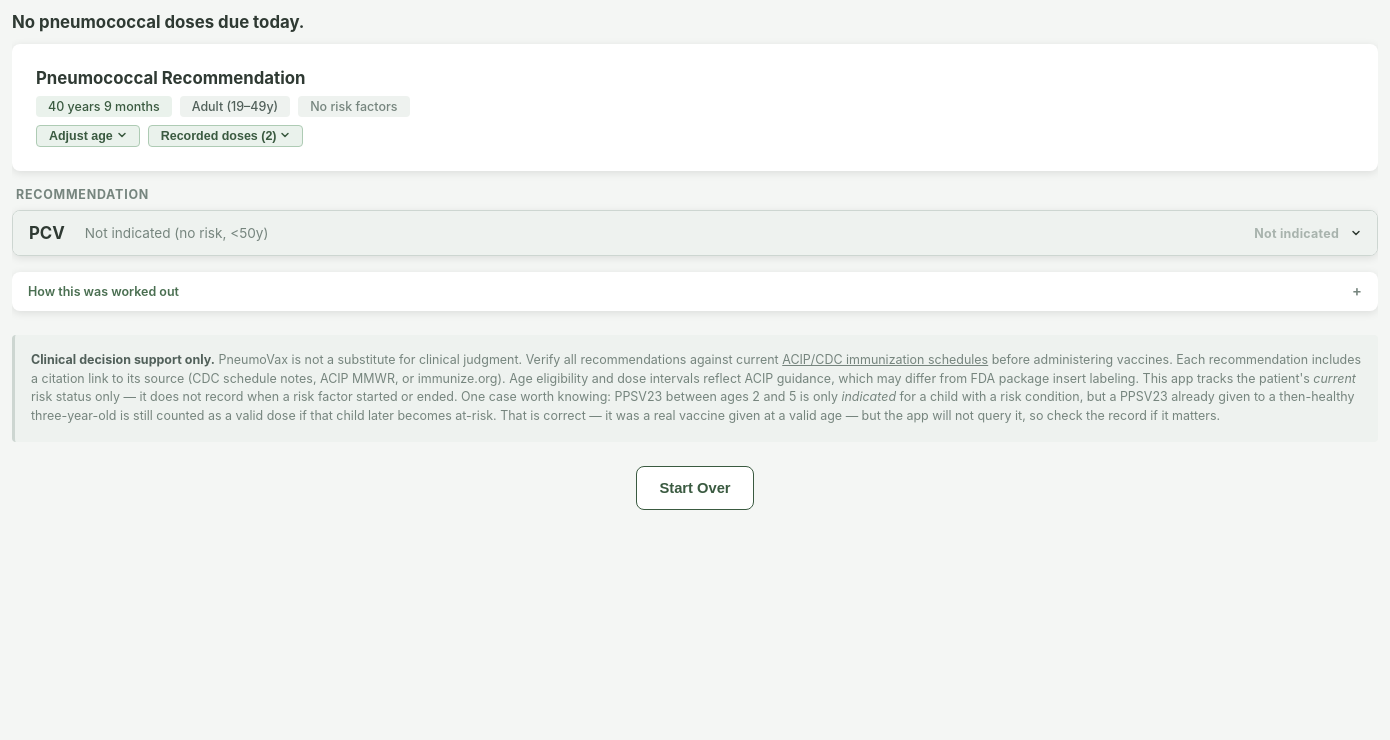
S14-4B UI — the PPSV23 extra dose is visible on the card › CONTROL — the PPSV23 that COMPLETED a PCV15 series still reads as a dose
The image size is (1390, 740).
Click the button "PCV Not indicated (no risk, <50y) Not indicated".
click(47, 233)  # box [13,211,1377,255]
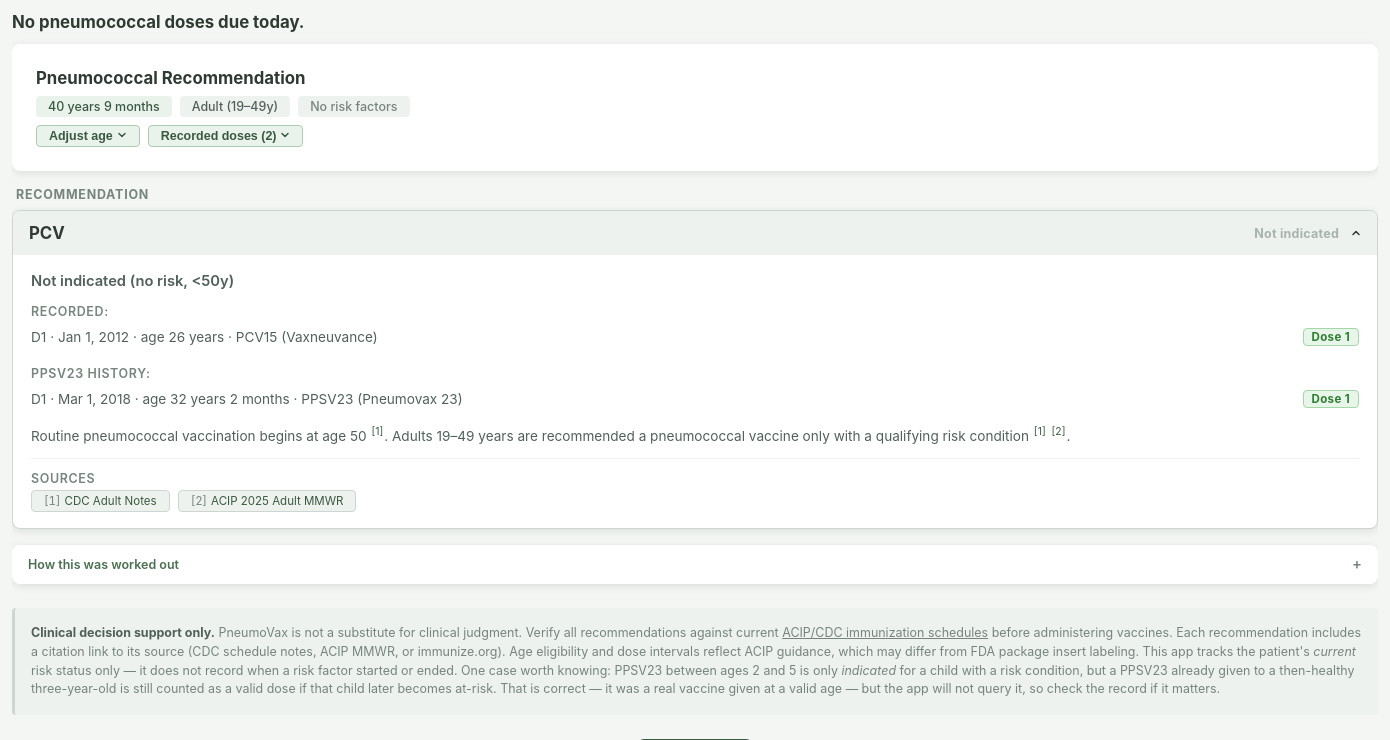
Check: the text "Dose 1" is shown 2 times, box [1302,328,1359,346]; [1302,390,1359,408]
